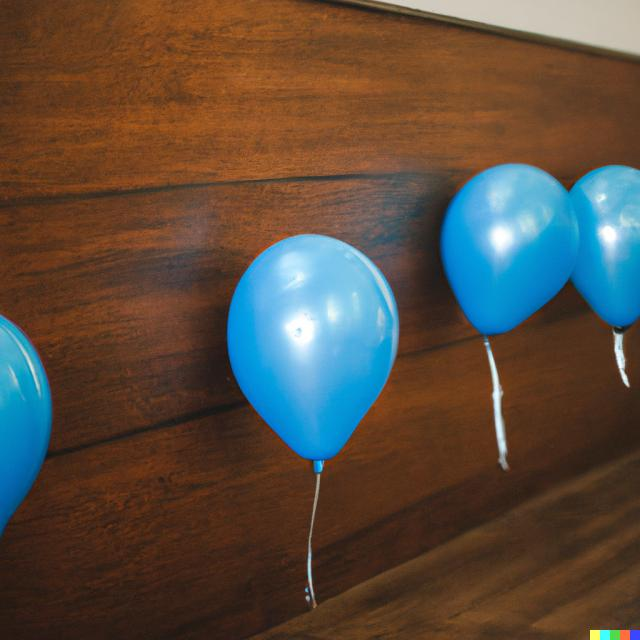blue: (229, 233, 401, 473), (442, 165, 582, 342), (566, 164, 640, 335)
